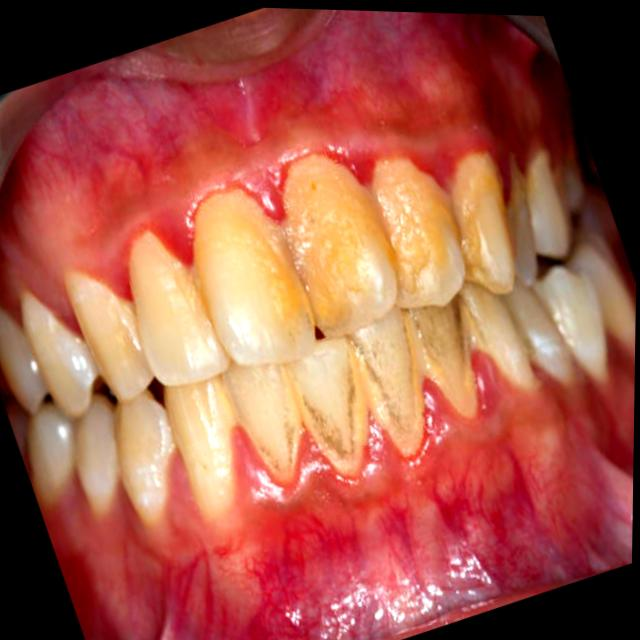calculus: (284, 154, 394, 288), (229, 189, 308, 309), (375, 159, 450, 274), (384, 359, 426, 461), (424, 348, 477, 414), (347, 341, 371, 473), (452, 165, 482, 264), (315, 418, 342, 472), (366, 370, 390, 427), (413, 333, 431, 377), (302, 399, 316, 440)
gingivitis: (0, 51, 552, 319), (103, 383, 634, 617)
